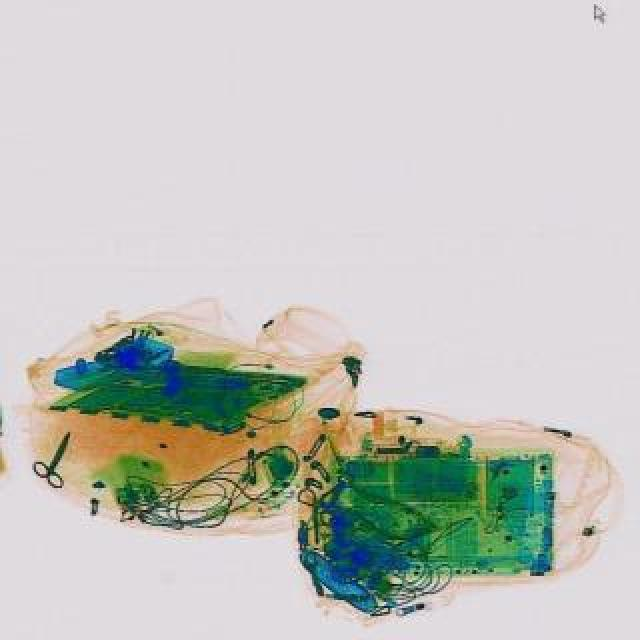pliers: (26, 424, 88, 492)
